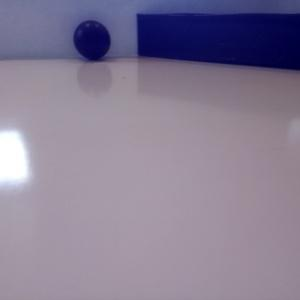zone: (137, 12, 300, 70)
